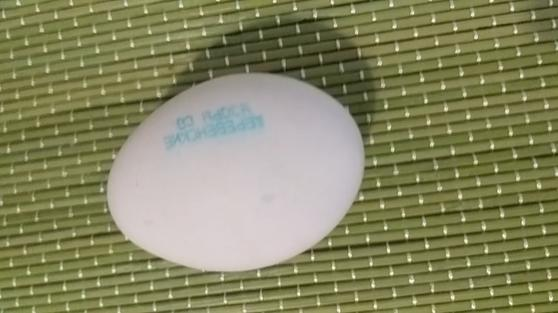egg: (103, 72, 368, 280)
